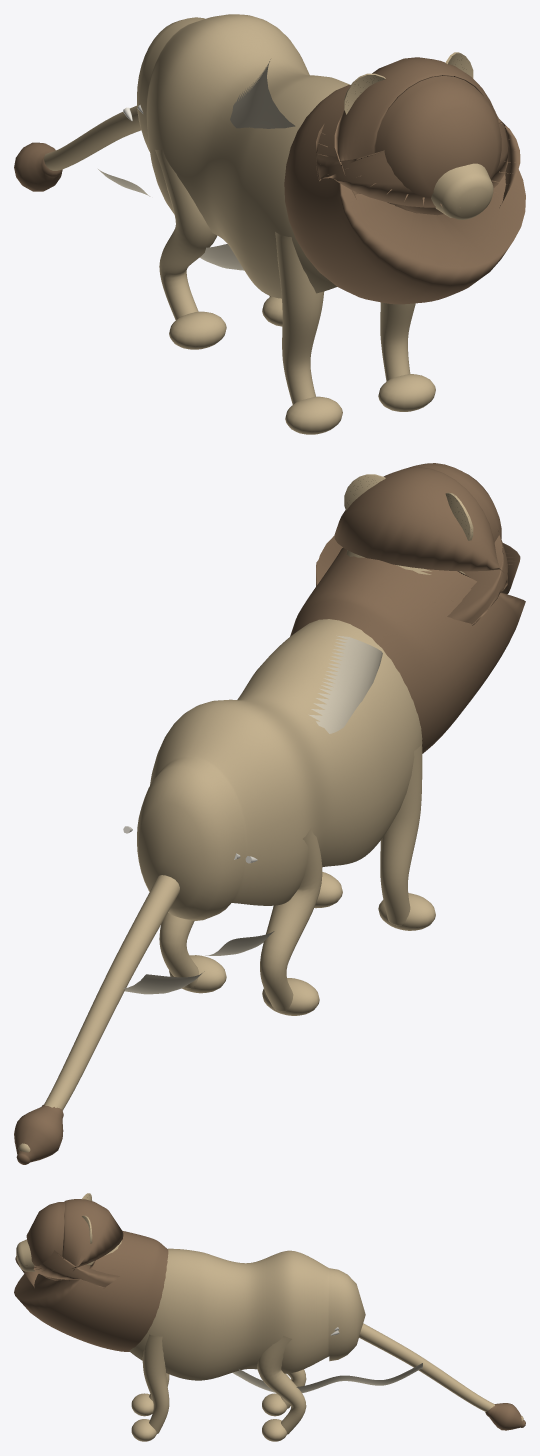
The model's file is other-african-lion.glb.
3 renders of one model, top to bottom at view 1: azimuth 30°, elevation 25°; view 2: azimuth 150°, elevation 25°; view 3: azimuth 270°, elevation 25°, orthographic. The views are drawn at different scales.
Visible parts, largest first — view 1: african-lion-male; view 2: african-lion-male; view 3: african-lion-male.
Part boxes in pixels (left/top/right/bottom): african-lion-male: left=14, top=14, right=525, bottom=434; african-lion-male: left=14, top=463, right=525, bottom=1164; african-lion-male: left=14, top=1193, right=525, bottom=1441.
Bounding box in the file's own units: 23015 × 52222 × 106941.
6 materials, 3 textured.
